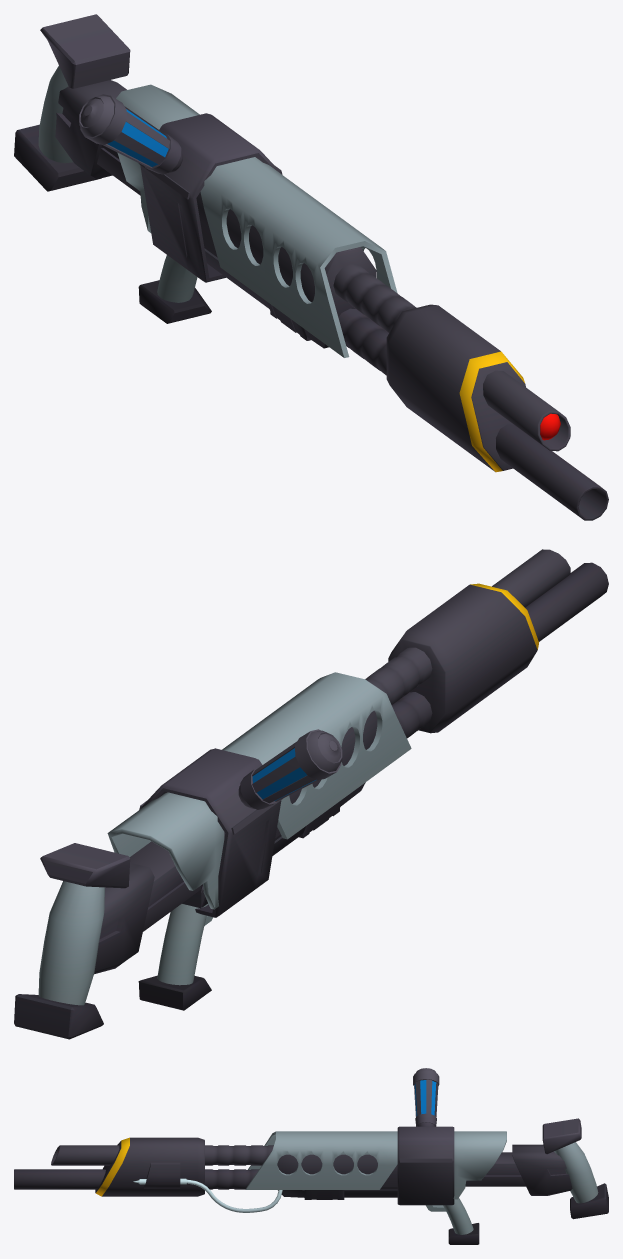
File: alien_Blaster2.fbx
The picture shows the model from 3 angles, top to bottom: view 1: azimuth 30°, elevation 25°; view 2: azimuth 150°, elevation 25°; view 3: azimuth 270°, elevation 25°; orthographic projection. The views are drawn at different scales.
Parts seen in each view (by area): view 1: Protection Parts; view 2: Protection Parts; view 3: Protection Parts.
Boxes of the visible parts, x1=… form: Protection Parts: x1=14, y1=14, x2=608, y2=520; Protection Parts: x1=14, y1=549, x2=608, y2=1039; Protection Parts: x1=14, y1=1068, x2=608, y2=1244.
Bounding box in the file's own units: 14.94 × 21.37 × 81.01.
1 material, 1 textured.
